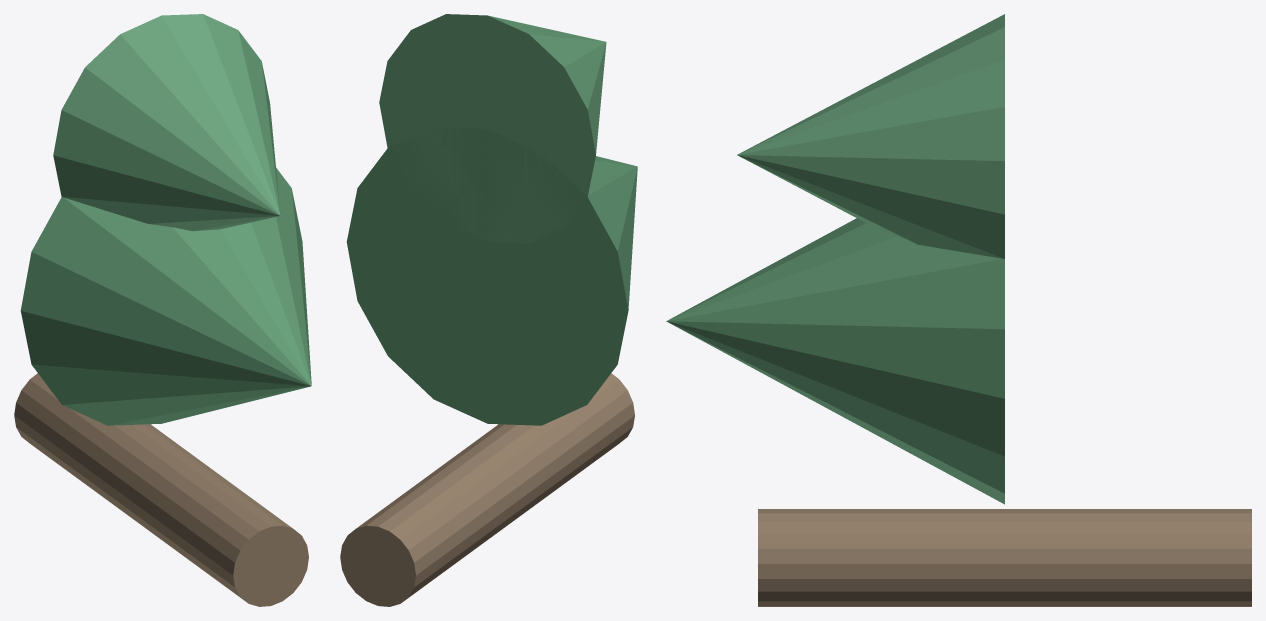
File: grass-trees-tall.glb
3 renders of one model, left to right at view 1: azimuth 30°, elevation 25°; view 2: azimuth 150°, elevation 25°; view 3: azimuth 270°, elevation 25°, orthographic. The views are drawn at different scales.
Parts seen in each view (by area): view 1: world; view 2: world; view 3: world.
Boxes of the visible parts, x1,y1,x2,y2 form: world: (14,14,311,606); world: (340,14,637,606); world: (666,14,1251,606).
Bounding box in the file's own units: 0.52 × 0.9 × 0.83.
